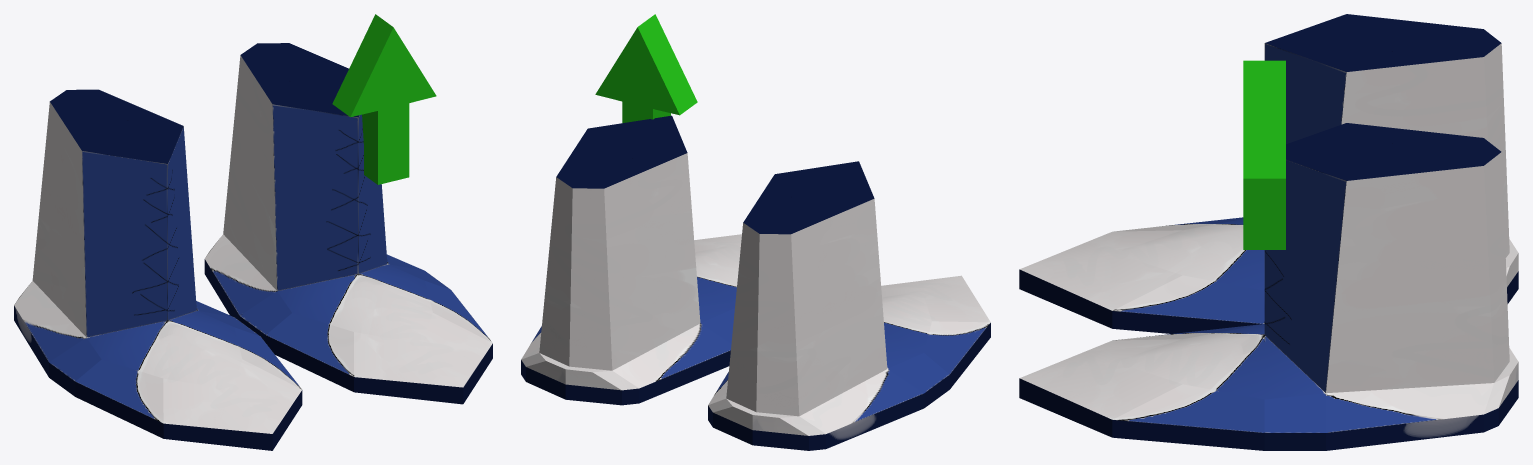
The model's file is jumpBoost.fbx.
The picture shows the model from 3 angles, left to right: view 1: azimuth 30°, elevation 25°; view 2: azimuth 150°, elevation 25°; view 3: azimuth 270°, elevation 25°; orthographic projection. The views are drawn at different scales.
Parts seen in each view (by area): view 1: pDisc1, pCube2; view 2: pDisc1, pCube2; view 3: pDisc1, pCube2.
Part boxes in pixels (x1=…): pDisc1: x1=14, y1=43, x2=492, y2=450; pCube2: x1=332, y1=14, x2=436, y2=184; pDisc1: x1=521, y1=115, x2=990, y2=450; pCube2: x1=595, y1=14, x2=697, y2=123; pDisc1: x1=1019, y1=14, x2=1518, y2=450; pCube2: x1=1243, y1=60, x2=1285, y2=249.
Bounding box in the file's own units: 0.3296 × 0.252 × 0.3237.
